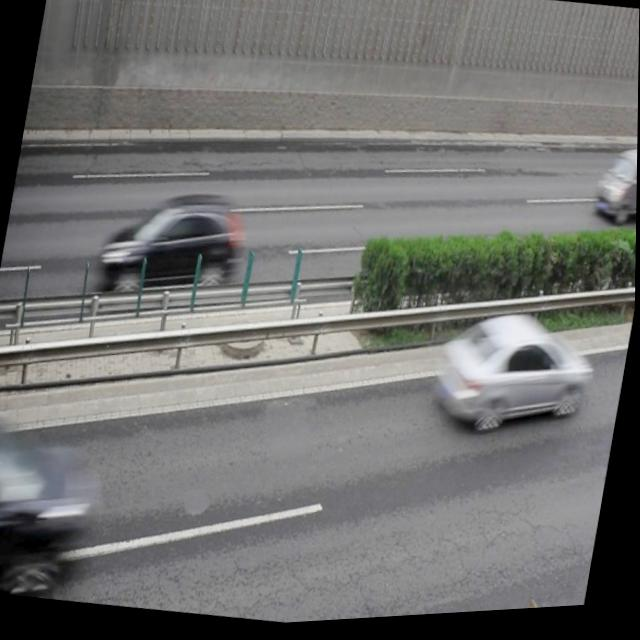car: (425, 304, 593, 453), (92, 176, 253, 313), (0, 409, 106, 606)
truck: (591, 146, 638, 234)
